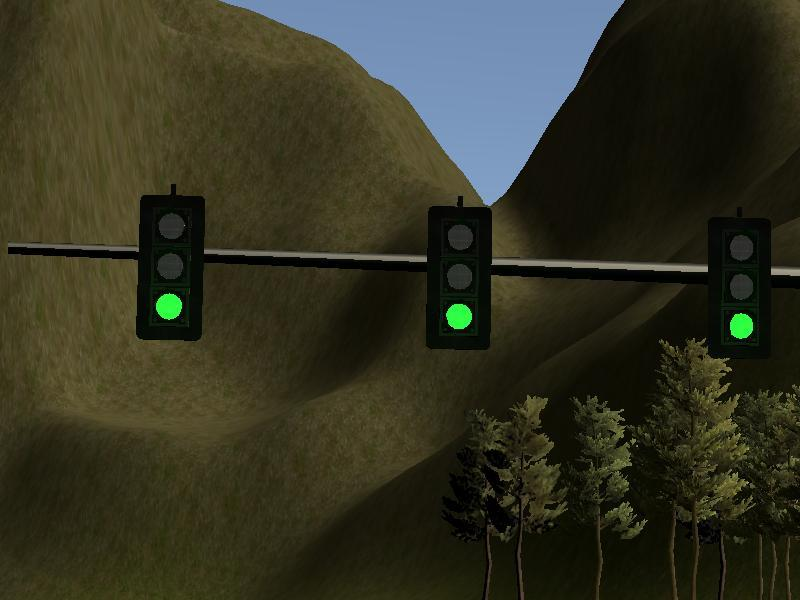Green: (432, 207, 491, 348), (140, 200, 199, 338), (710, 218, 769, 356)
